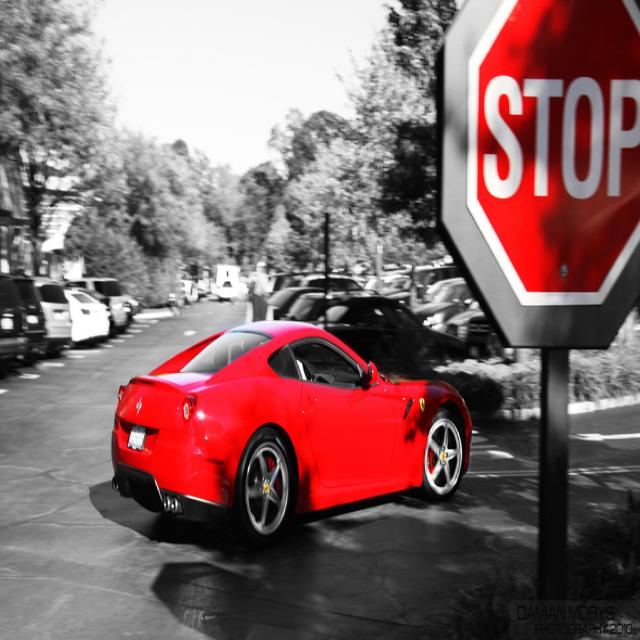Stop-sign: (466, 0, 640, 310)
